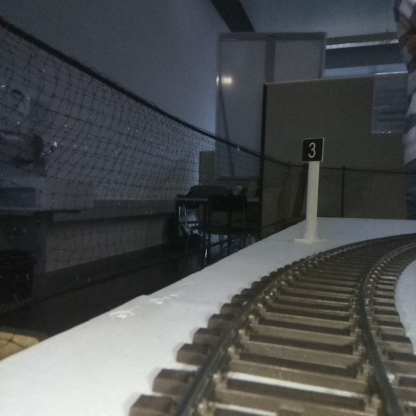black-info-3: (302, 139, 322, 241)
